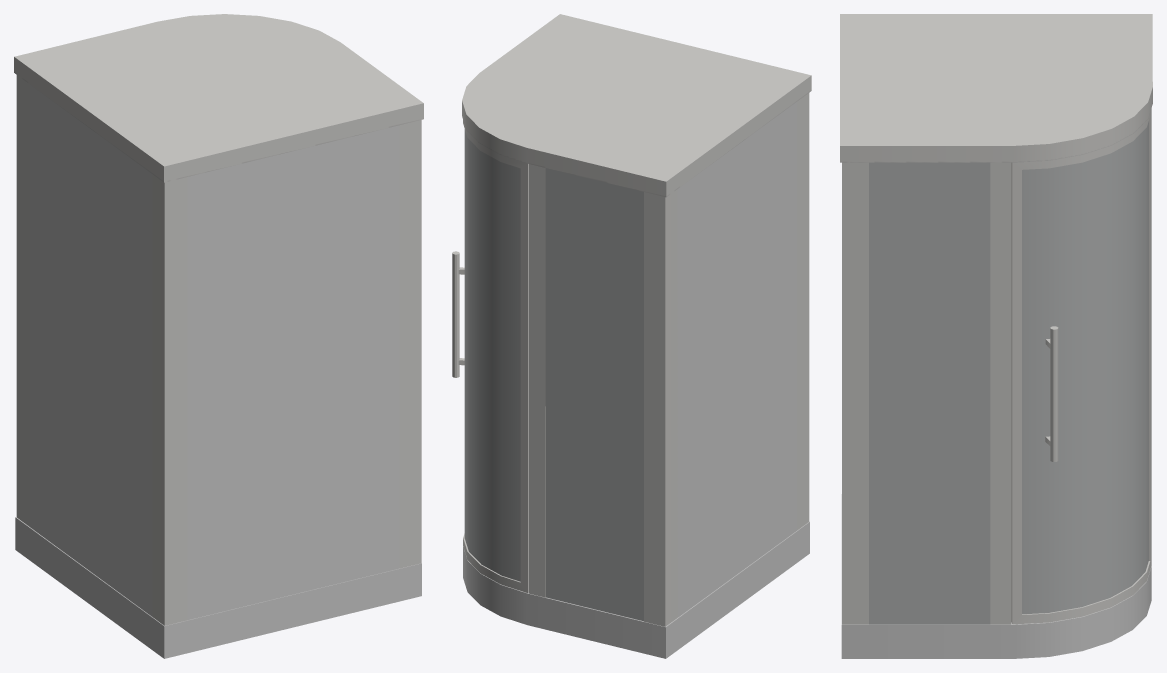
File: SM_Shower.fbx
3 views of the same model, side by side, from view 1: azimuth 30°, elevation 25°; view 2: azimuth 150°, elevation 25°; view 3: azimuth 270°, elevation 25° (orthographic). The views are drawn at different scales.
Parts seen in each view (by area): view 1: Cube.031; view 2: Cube.031; view 3: Cube.031.
Boxes of the visible parts, bbox=[...] form: Cube.031: bbox=[14, 14, 423, 658]; Cube.031: bbox=[452, 14, 811, 658]; Cube.031: bbox=[840, 14, 1152, 658].
Size of the model in its own units: 4.9 by 8.63 by 4.76.
